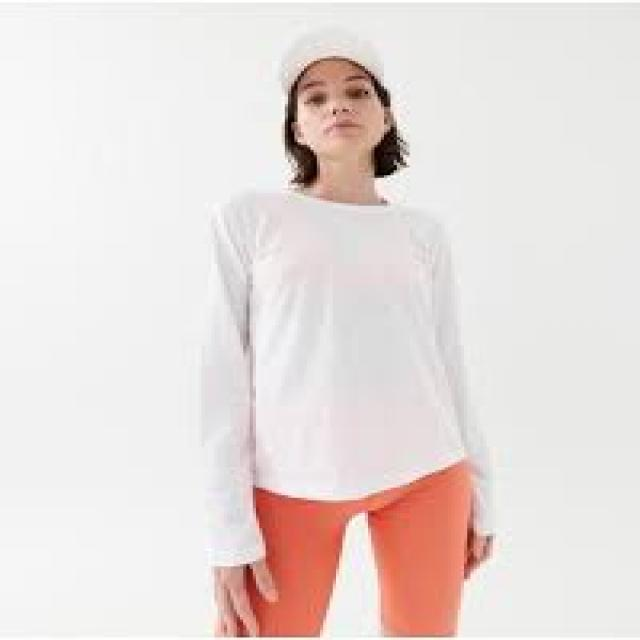plain: (159, 165, 500, 545)
